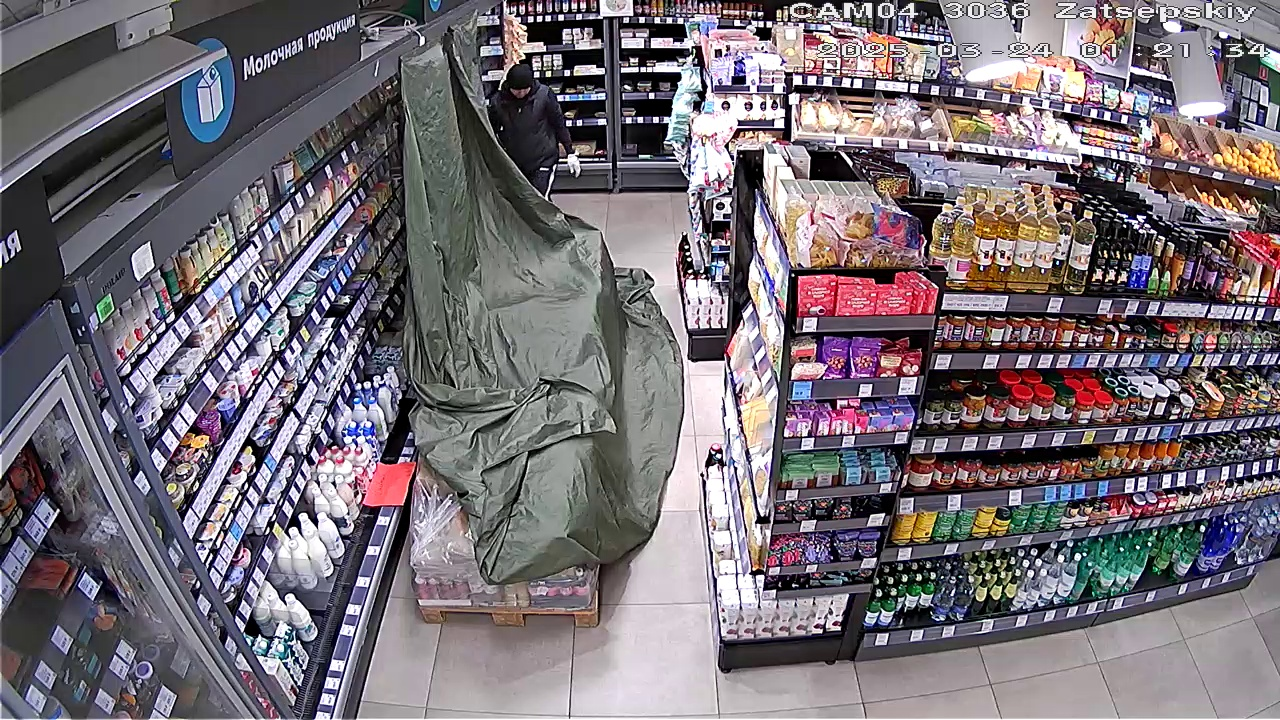Human: (480, 64, 579, 187)
dome: (395, 34, 682, 582)
